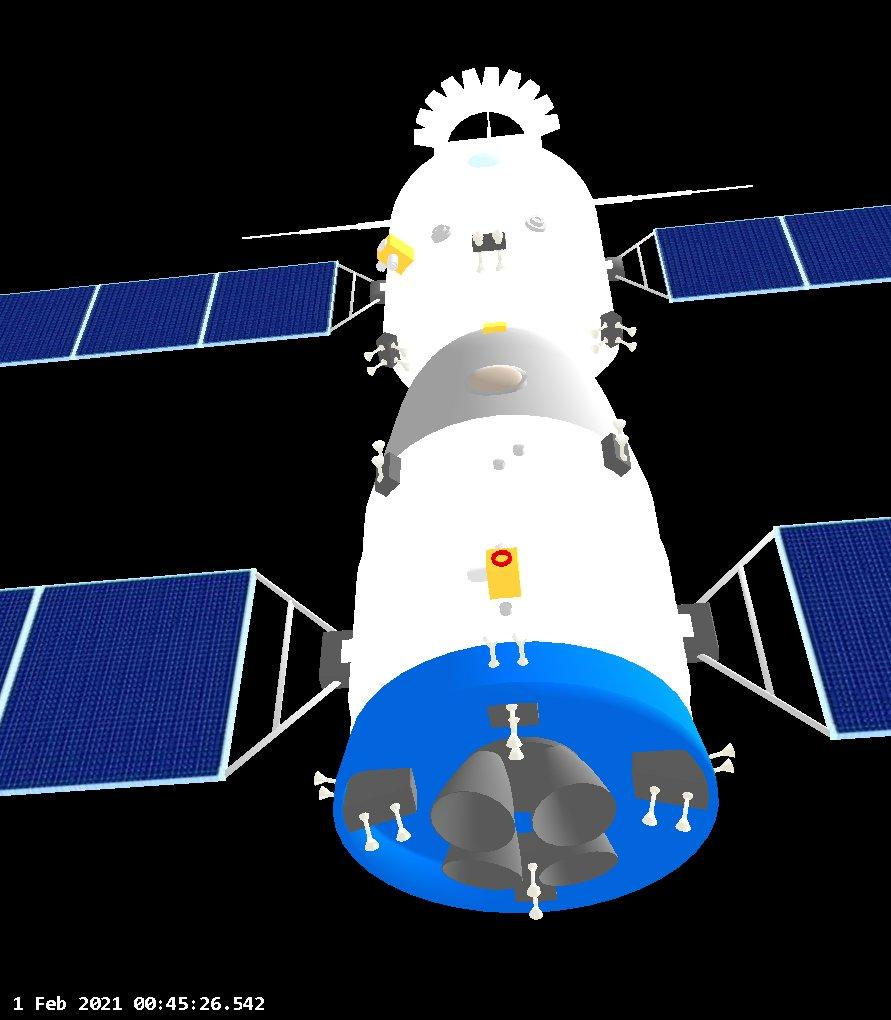antenna: (588, 180, 755, 208), (241, 217, 400, 243)
body: (332, 154, 722, 915)
solar: (0, 561, 266, 800), (0, 258, 345, 367), (771, 509, 891, 741), (652, 198, 891, 306)
thruster: (529, 741, 616, 848), (429, 749, 517, 854), (444, 832, 524, 892), (537, 832, 620, 887), (390, 799, 414, 844), (356, 812, 381, 855), (639, 785, 663, 828), (675, 790, 694, 833), (523, 860, 543, 898), (482, 633, 503, 669), (511, 632, 532, 667), (709, 741, 736, 760), (527, 894, 546, 921), (363, 342, 388, 362), (615, 430, 630, 463), (371, 455, 388, 484), (312, 768, 339, 786), (614, 320, 639, 339), (473, 250, 491, 275), (615, 336, 640, 354), (365, 359, 389, 376), (390, 341, 415, 357), (494, 249, 509, 275), (711, 762, 738, 776), (318, 785, 340, 802), (371, 439, 391, 457), (489, 227, 506, 248), (612, 418, 630, 437), (394, 355, 414, 372), (589, 320, 610, 336), (590, 337, 609, 354), (470, 230, 486, 249)
